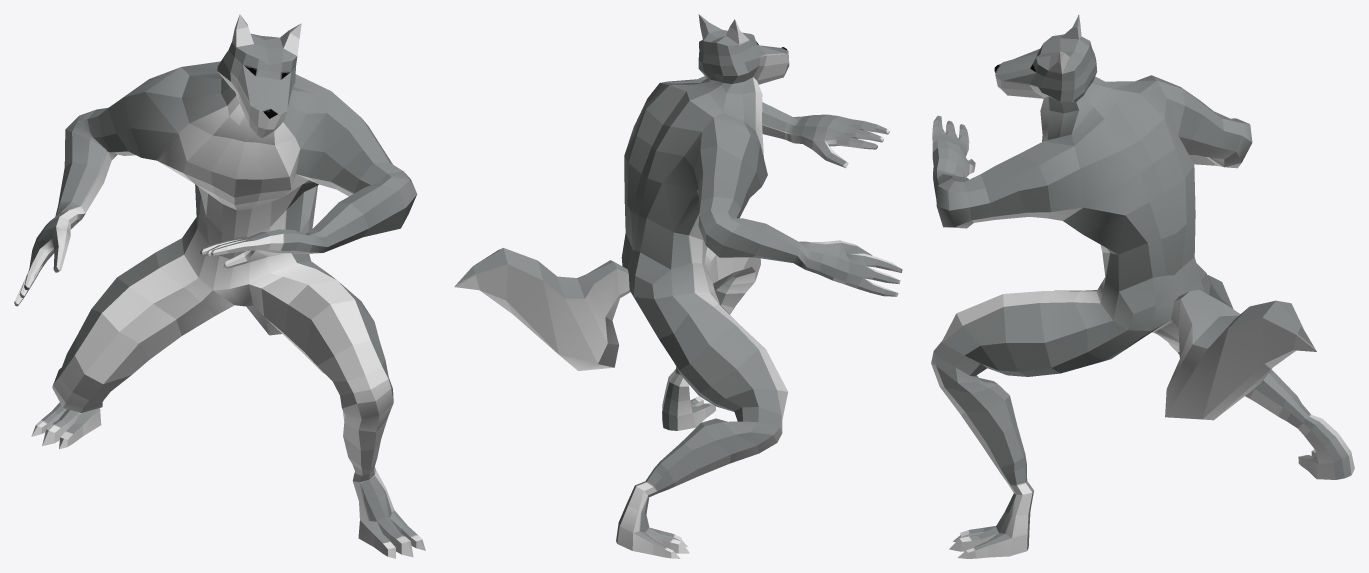
The model's file is WolfAttack(16).obj.
The picture shows the model from 3 angles, left to right: view 1: azimuth 30°, elevation 25°; view 2: azimuth 150°, elevation 25°; view 3: azimuth 270°, elevation 25°; orthographic projection. The views are drawn at different scales.
Visible parts, largest first — view 1: Box001; view 2: Box001; view 3: Box001.
Boxes of the visible parts, <box> form: Box001: <box>14,14,425,558</box>; Box001: <box>454,14,902,558</box>; Box001: <box>931,14,1354,558</box>.
Bounding box in the file's own units: 106 × 130 × 103.
